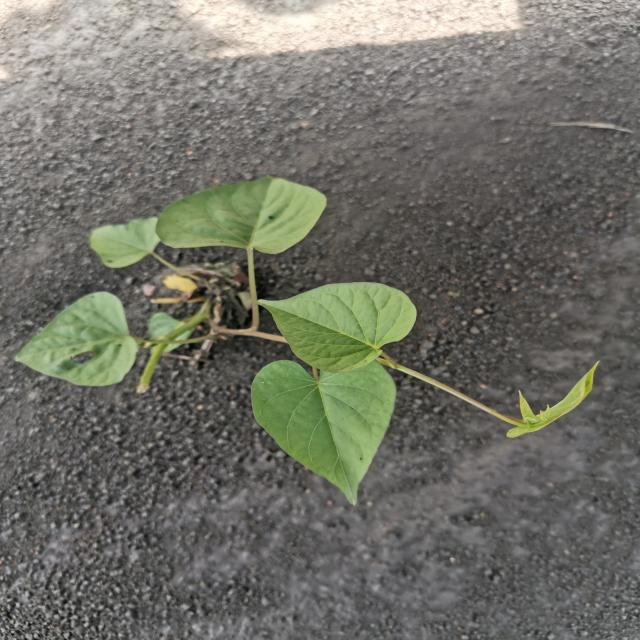MorningGlory: (6, 175, 604, 510)
